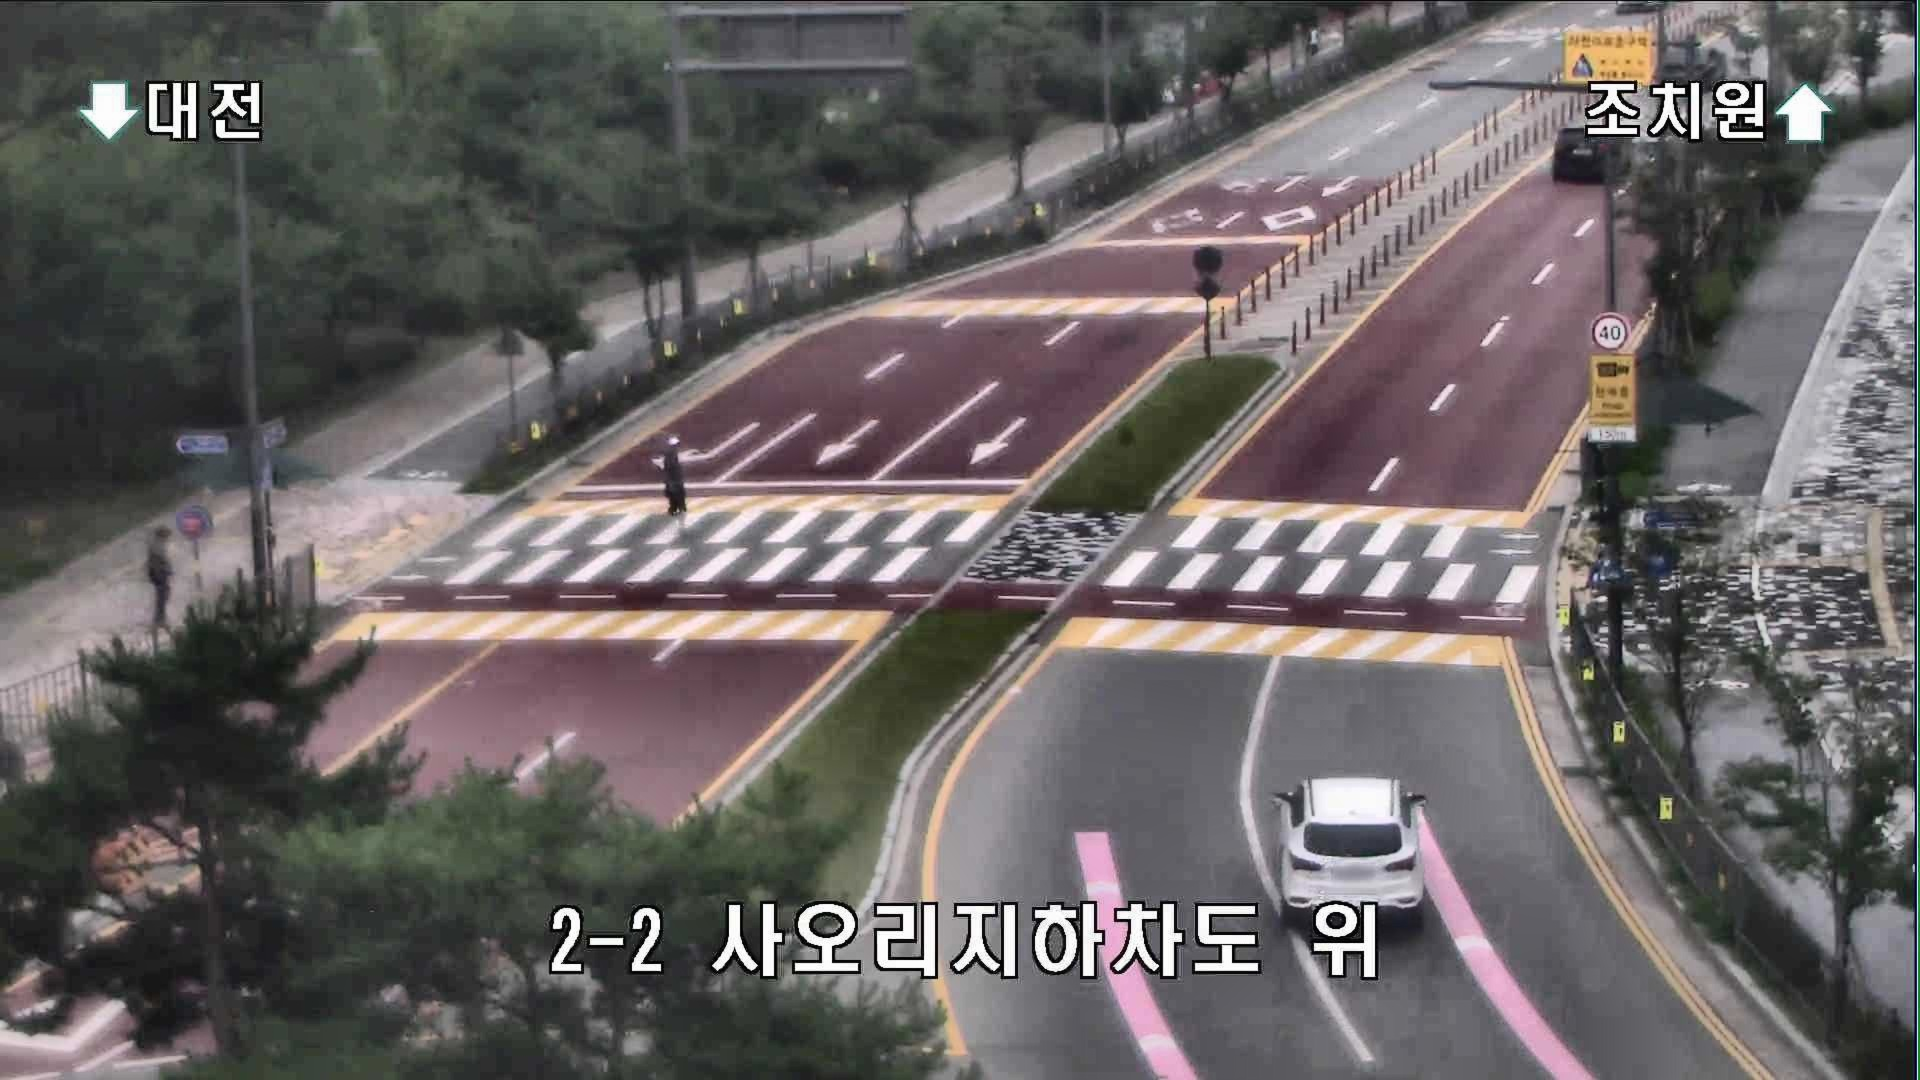crosswalk: (655, 434, 694, 533)
sidewalk: (142, 525, 175, 636)
